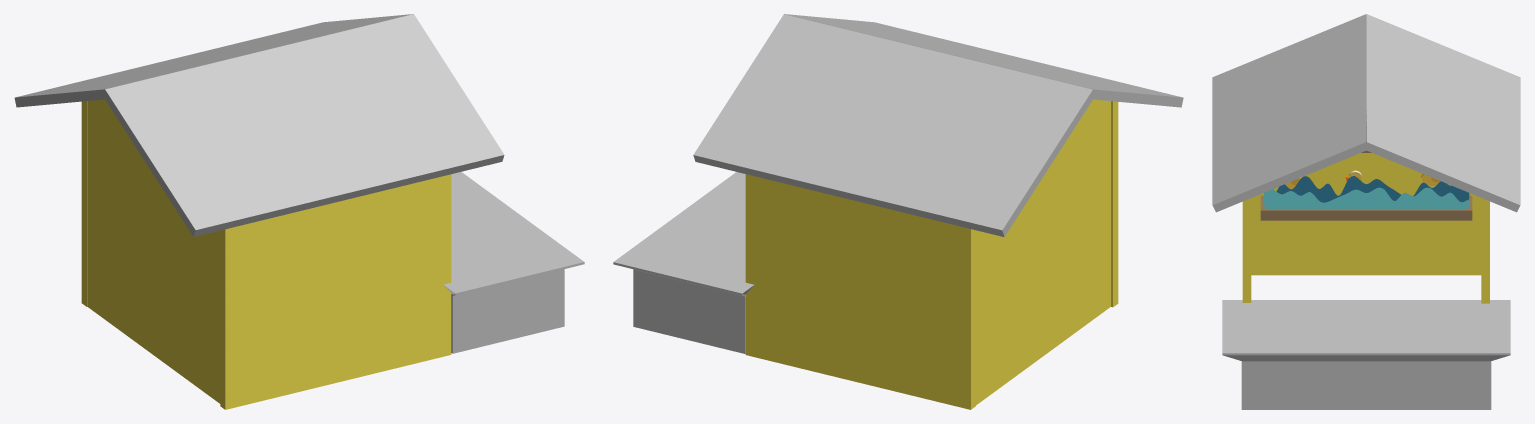
File: booth.fbx
3 renders of one model, left to right at view 1: azimuth 30°, elevation 25°; view 2: azimuth 150°, elevation 25°; view 3: azimuth 270°, elevation 25°, orthographic. The views are drawn at different scales.
Visible parts, largest first — view 1: Cube.004, Cube.001, Cube.003, Cube, Cube.002; view 2: Cube.004, Cube.002, Cube.003, Cube, Cube.001; view 3: Cube.004, Cube, Cube.003, Plane, Cube.006, Plane.001, Cube.001, Cube.002.
Boxes of the visible parts, x1=… form: Cube.004: x1=14, y1=14, x2=504, y2=236; Cube.001: x1=220, y1=174, x2=451, y2=409; Cube.003: x1=87, y1=99, x2=220, y2=403; Cube: x1=444, y1=172, x2=584, y2=353; Cube.002: x1=81, y1=101, x2=87, y2=306; Cube.004: x1=693, y1=14, x2=1183, y2=237; Cube.002: x1=745, y1=174, x2=975, y2=409; Cube.003: x1=976, y1=99, x2=1110, y2=405; Cube: x1=613, y1=172, x2=754, y2=353; Cube.001: x1=1111, y1=101, x2=1118, y2=307; Cube.004: x1=1212, y1=14, x2=1520, y2=212; Cube: x1=1222, y1=300, x2=1510, y2=409; Cube.003: x1=1251, y1=153, x2=1481, y2=275; Plane: x1=1263, y1=187, x2=1469, y2=209; Cube.006: x1=1260, y1=195, x2=1472, y2=220; Plane.001: x1=1276, y1=176, x2=1469, y2=202; Cube.001: x1=1242, y1=198, x2=1251, y2=302; Cube.002: x1=1481, y1=198, x2=1489, y2=303.
Size of the model in its own units: 706 by 477 by 561.
